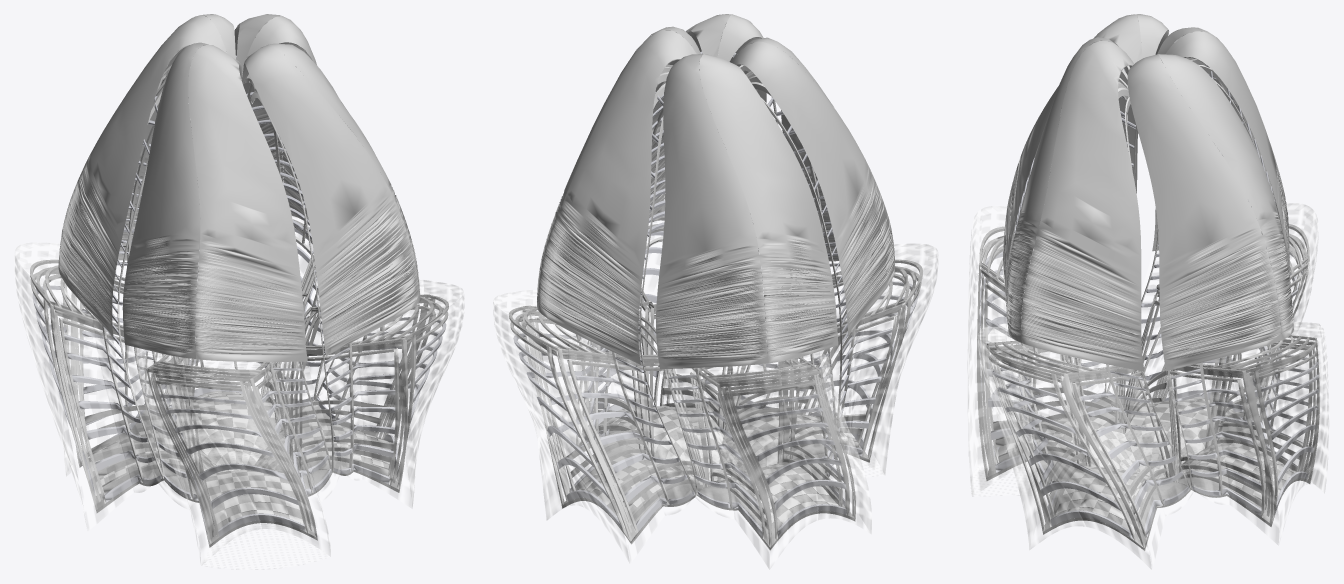
The picture shows the model from 3 angles, left to right: view 1: azimuth 30°, elevation 25°; view 2: azimuth 150°, elevation 25°; view 3: azimuth 270°, elevation 25°; orthographic projection.
Parts seen in each view (by area): view 1: SKINUST, Merged Objects, Merged Objects 2, Merged Objects 1, FUL YATAY; view 2: SKINUST, Merged Objects, Merged Objects 2, Merged Objects 1, FUL YATAY; view 3: SKINUST, Merged Objects, Merged Objects 2, Merged Objects 1, FUL YATAY.
Part boxes in pixels (x1,y1,x2,y2): SKINUST: (58, 14, 420, 361); Merged Objects: (14, 216, 464, 569); Merged Objects 2: (43, 56, 435, 544); Merged Objects 1: (30, 212, 448, 547); FUL YATAY: (32, 55, 446, 536); SKINUST: (537, 14, 894, 369); Merged Objects: (493, 199, 938, 569); Merged Objects 2: (520, 49, 911, 547); Merged Objects 1: (509, 216, 922, 550); FUL YATAY: (513, 51, 918, 537); SKINUST: (1003, 14, 1293, 371); Merged Objects: (967, 203, 1329, 568); Merged Objects 2: (977, 57, 1319, 547); Merged Objects 1: (979, 224, 1317, 550); FUL YATAY: (979, 65, 1318, 539).
Bounding box in the file's own units: 56.51 × 79.13 × 56.52.
5 materials, 1 textured.
